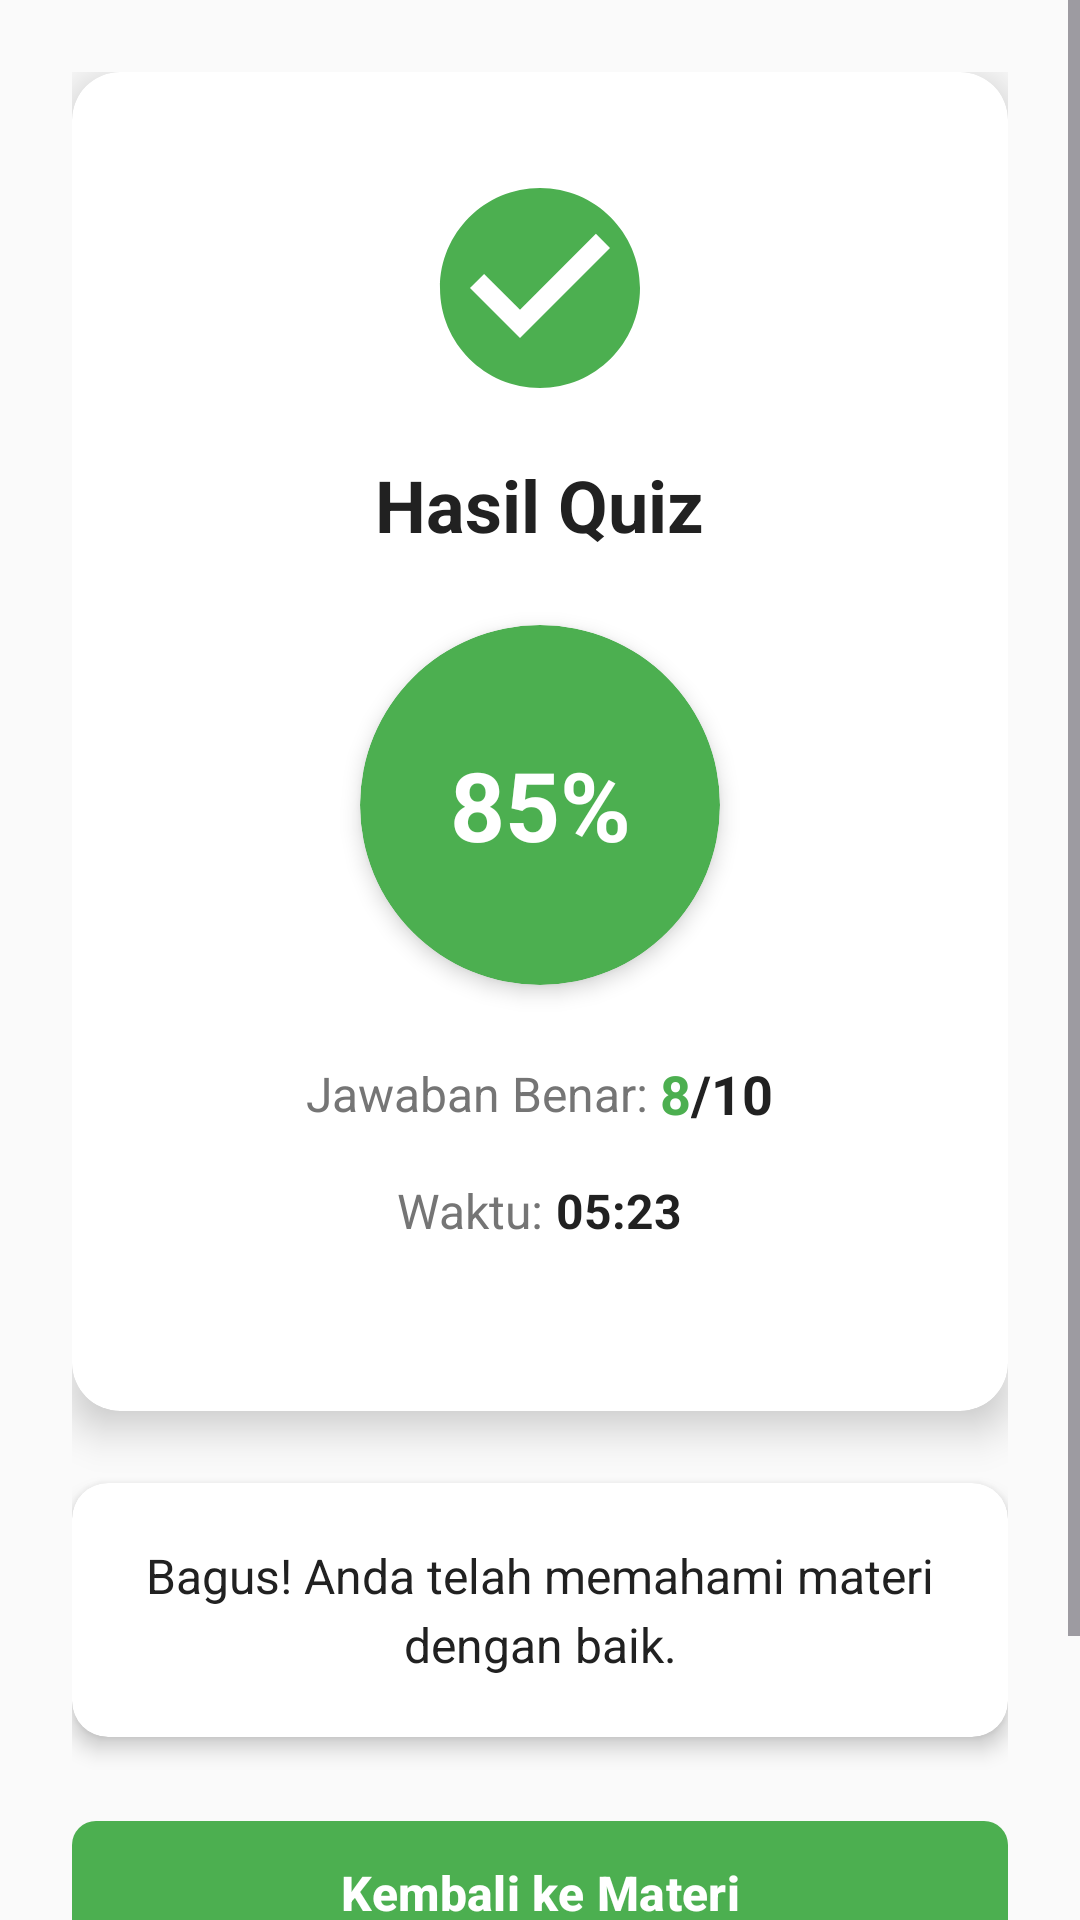

Icon click points for this 1080x1920 phone screenshot, format point (x, y):
Quiz completed: point (540, 288)
